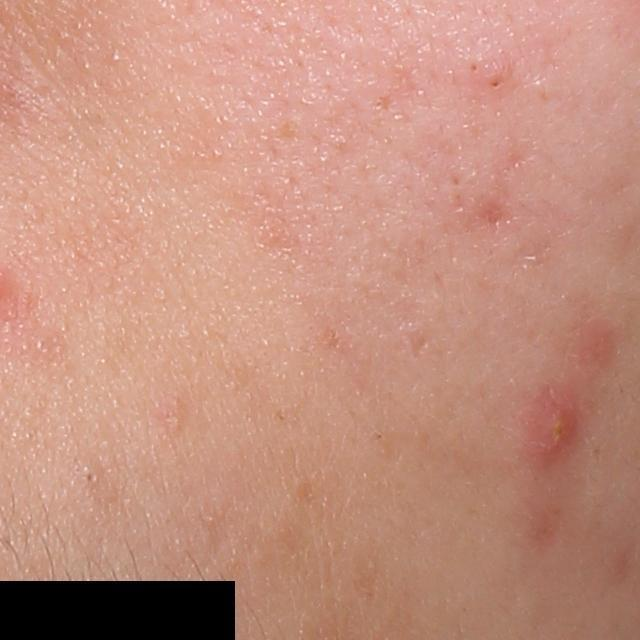atrophic_scar: (410, 329, 431, 365), (476, 199, 500, 230)
comedo: (79, 464, 106, 490), (486, 73, 507, 93), (466, 59, 482, 76)
papule: (528, 387, 585, 462)
